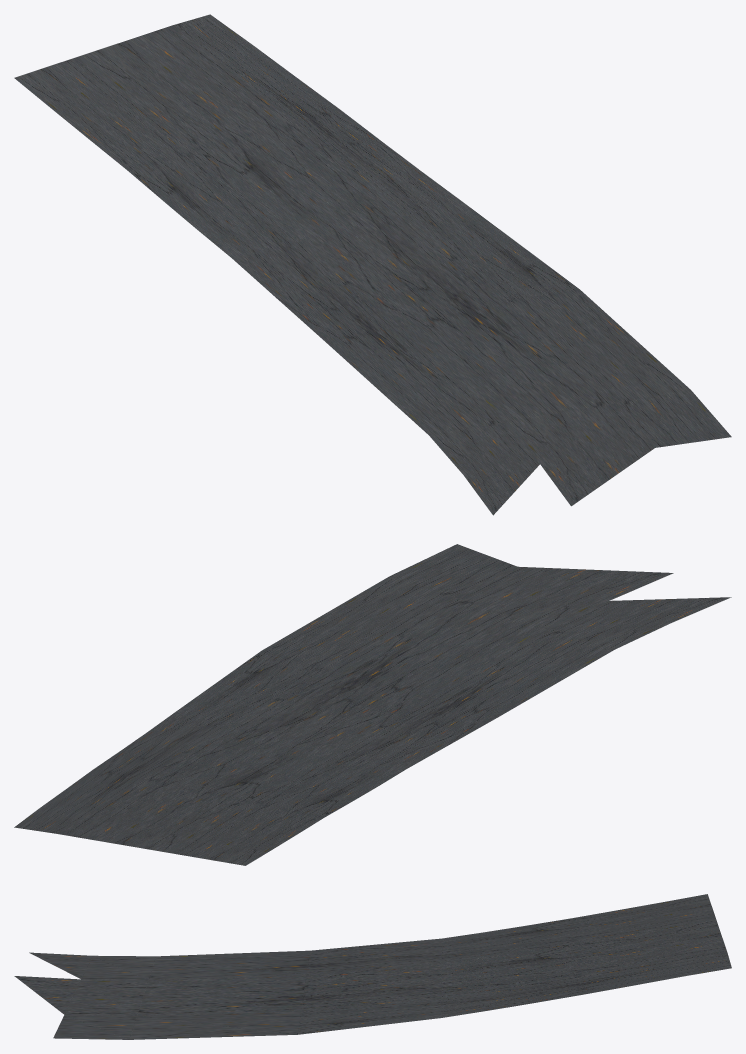
File: road.glb
3 views of the same model, one above another, from view 1: azimuth 30°, elevation 25°; view 2: azimuth 150°, elevation 25°; view 3: azimuth 270°, elevation 25° (orthographic). The views are drawn at different scales.
Parts seen in each view (by area): view 1: TRN_CP_IT_ROAD_A_17_CHOP_O13_R0; view 2: TRN_CP_IT_ROAD_A_17_CHOP_O13_R0; view 3: TRN_CP_IT_ROAD_A_17_CHOP_O13_R0.
Boxes of the visible parts, left/top/right/bottom form: TRN_CP_IT_ROAD_A_17_CHOP_O13_R0: left=14, top=14, right=731, bottom=515; TRN_CP_IT_ROAD_A_17_CHOP_O13_R0: left=14, top=544, right=731, bottom=865; TRN_CP_IT_ROAD_A_17_CHOP_O13_R0: left=14, top=894, right=731, bottom=1039.
Bounding box in the file's own units: 15.85 × 4.6 × 50.37.
Materials: 2 (2 with a texture image).
